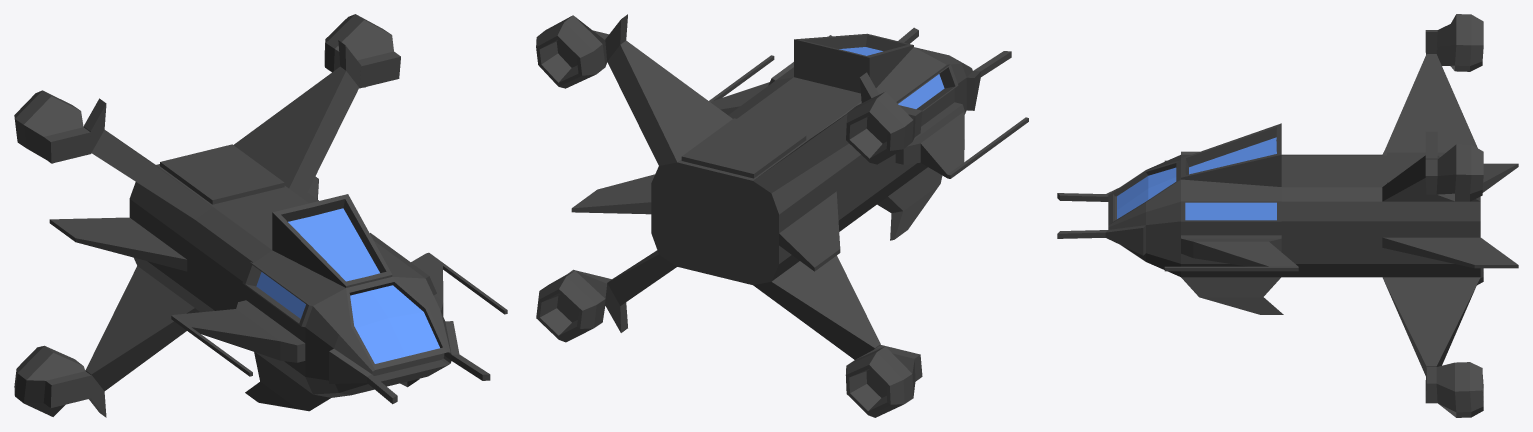
The model's file is VoidPhantom22.fbx.
3 renders of one model, left to right at view 1: azimuth 30°, elevation 25°; view 2: azimuth 150°, elevation 25°; view 3: azimuth 270°, elevation 25°, orthographic. The views are drawn at different scales.
Visible parts, largest first — view 1: VoidPhantom22; view 2: VoidPhantom22; view 3: VoidPhantom22.
Part boxes in pixels (x1,y1,x2,y2): VoidPhantom22: (14,14,507,417); VoidPhantom22: (536,14,1028,417); VoidPhantom22: (1057,14,1518,417).
Size of the model in its own units: 18.91 by 15.76 by 24.01.
